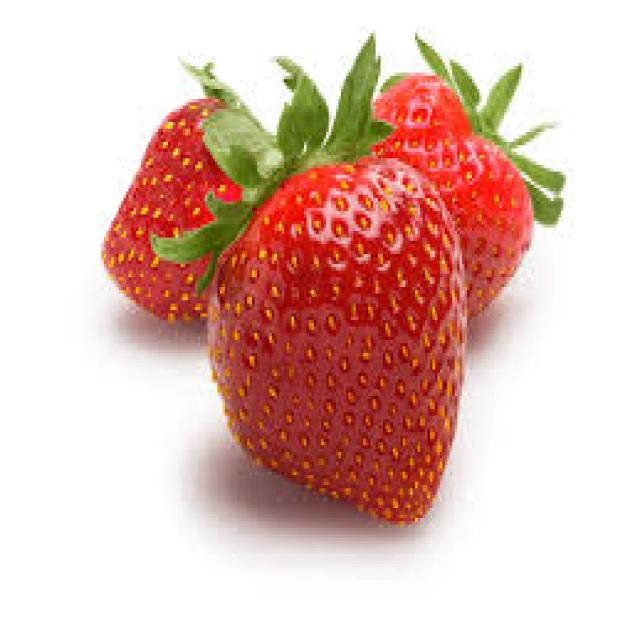strawberry: (197, 97, 462, 541), (91, 58, 243, 315)
